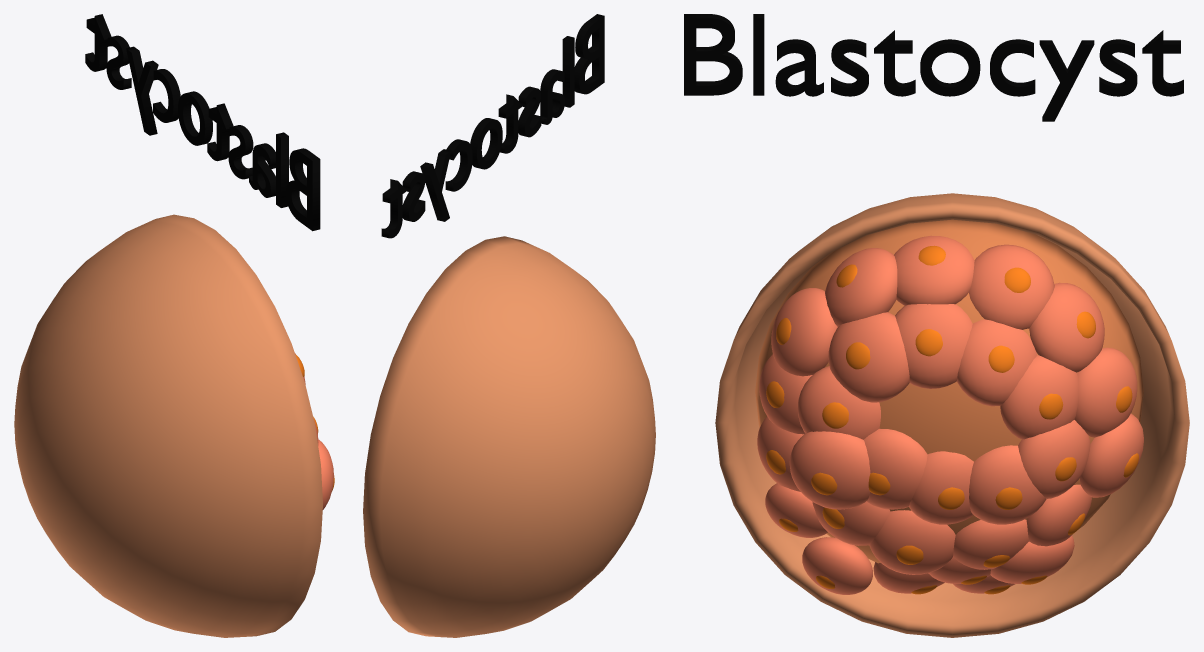
The model's file is (6)Blastocyst.gltf.
3 renders of one model, left to right at view 1: azimuth 30°, elevation 25°; view 2: azimuth 150°, elevation 25°; view 3: azimuth 270°, elevation 25°, orthographic. The views are drawn at different scales.
Parts seen in each view (by area): view 1: Sphere.067, Text.005, Sphere.122; view 2: Sphere.067, Text.005; view 3: Sphere.067, Sphere.068, Text.005, Sphere.106, Sphere.076, Sphere.122, Sphere.108, Sphere.078, Sphere.110, Sphere.074, Sphere.070, Sphere.112 (+19 smaller).
Part boxes in pixels (x1,y1,x2,y2): Sphere.067: (14, 214, 322, 637); Text.005: (85, 14, 320, 231); Sphere.122: (318, 439, 333, 509); Sphere.067: (363, 236, 655, 637); Text.005: (381, 14, 604, 238); Sphere.067: (715, 193, 1189, 637); Sphere.068: (755, 219, 1143, 563); Text.005: (684, 14, 1183, 121); Sphere.106: (828, 312, 909, 402); Sphere.076: (969, 244, 1054, 329); Sphere.122: (789, 431, 870, 509); Sphere.108: (895, 304, 972, 388); Sphere.078: (1029, 282, 1104, 372); Sphere.110: (957, 319, 1036, 406); Sphere.074: (894, 235, 974, 305); Sphere.070: (771, 288, 837, 376); Sphere.112: (1000, 355, 1078, 439).
Size of the model in its own units: 1.09 by 2.47 by 1.85.
